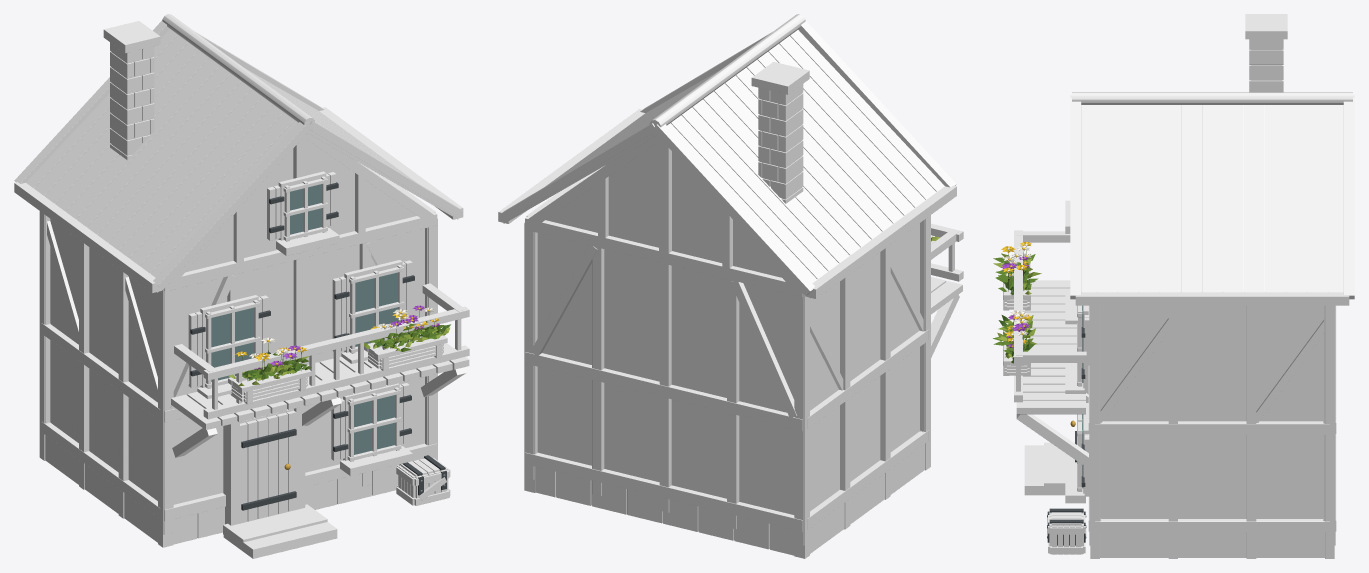
Rendered from 04_merchant_house.glb.
The picture shows the model from 3 angles, left to right: view 1: azimuth 30°, elevation 25°; view 2: azimuth 150°, elevation 25°; view 3: azimuth 270°, elevation 25°; orthographic projection. The views are drawn at different scales.
Visible parts, largest first — view 1: 04_merchant_house; view 2: 04_merchant_house; view 3: 04_merchant_house.
Boxes of the visible parts, left/top/right/bottom form: 04_merchant_house: left=14, top=14, right=469, bottom=558; 04_merchant_house: left=498, top=14, right=963, bottom=558; 04_merchant_house: left=993, top=14, right=1354, bottom=558.
Bounding box in the file's own units: 5.53 × 7.42 × 5.63.
